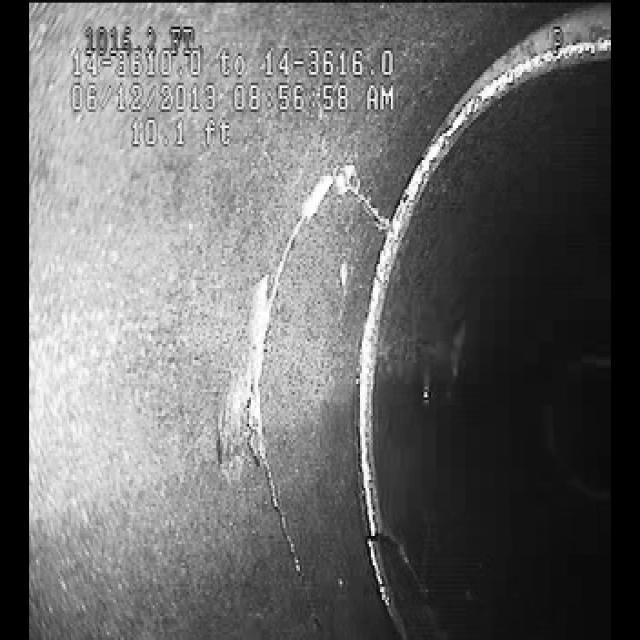Crack: (241, 160, 352, 554)
